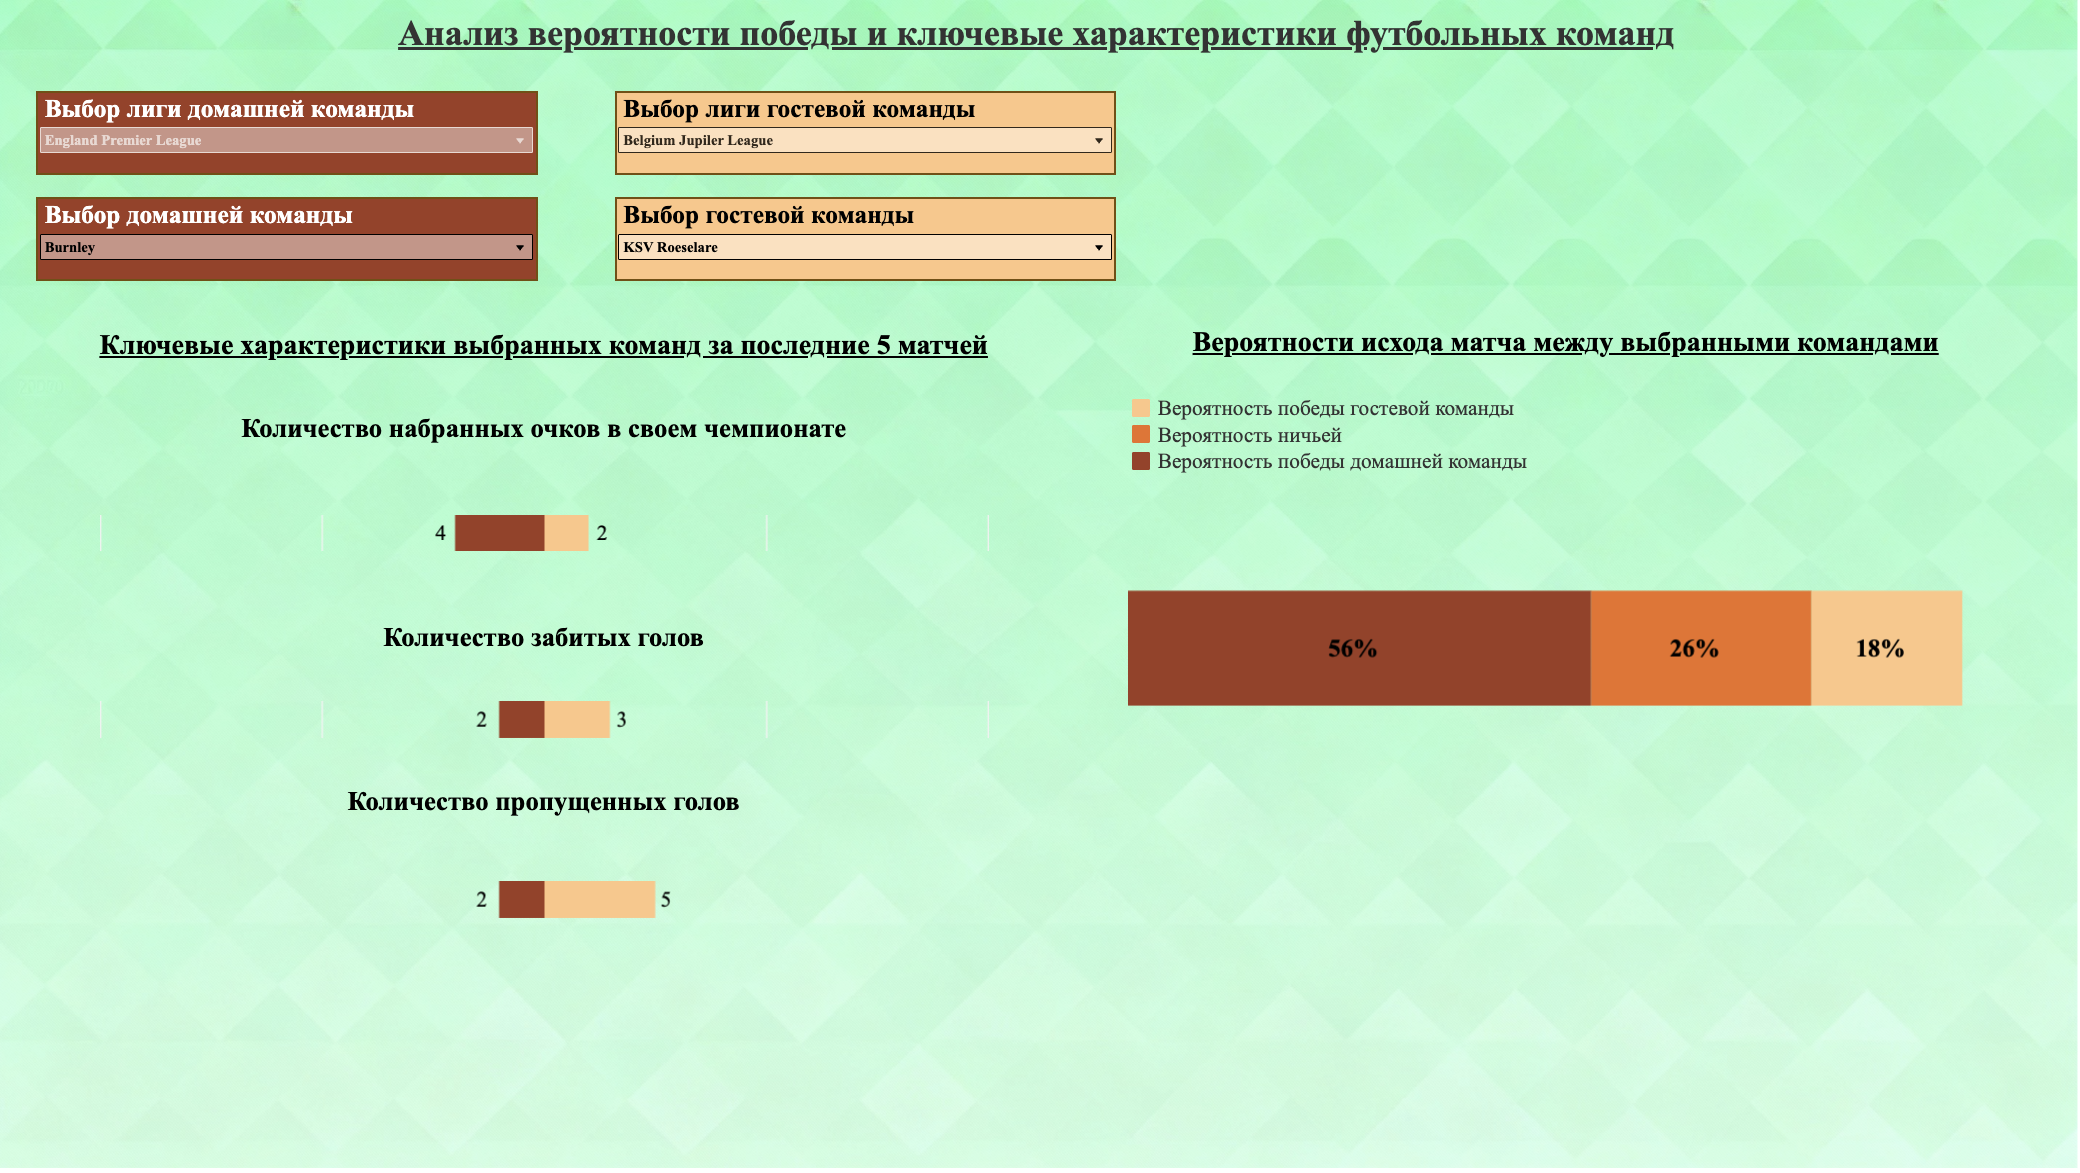

The page's visual inventory and layout, read from the dashboard file:
{"tool":"tableau","page":{"name":"Dashboard 1","canvas":[1600,900],"ordinal":0},"visuals":[{"type":"image","param":"Image/generated-image (2).png","box":[8,8,1584,884]},{"type":"title","box":[21,12,1556,48]},{"type":"parameter","param":"[Parameters].[home_team_league Parameter]","box":[49,80,376,63]},{"type":"parameter","param":"[Parameters].[away_team_league Parameter]","box":[483,80,376,63]},{"type":"filter","title":"Probability","param":"[federated.0jmgxuv1vn18zr1gdwkk21d7v8cl].[none:Calculation_756604794714611714:nk","box":[49,160,376,63]},{"type":"filter","title":"Probability","param":"[federated.0jmgxuv1vn18zr1gdwkk21d7v8cl].[none:Calculation_756604794713554944:nk","box":[483,160,376,63]},{"type":"text","box":[864,239,664,33]},{"type":"text","box":[27,241,805,50]},{"type":"worksheet","title":"Probability","mark":"Bar","cols":["Pivot Field Values"],"box":[864,272,664,456]},{"type":"text","box":[27,291,805,32]},{"type":"legend","title":"Probability","param":"[federated.0jmgxuv1vn18zr1gdwkk21d7v8cl].[none:Pivot Field Names:nk]","box":[868,308,368,78]},{"type":"worksheet","title":"pts","mark":"Bar","cols":["Calculation_756604794719100932","away_last_5_pts"],"box":[27,323,805,133.7]},{"type":"text","box":[27,456.7,805,32]},{"type":"worksheet","title":"scored","mark":"Bar","cols":["Calculation_756604794723115013","away_goals_scored_last_5"],"box":[27,488.7,805,99.7]},{"type":"text","box":[27,588.3,805,32]},{"type":"worksheet","title":"conceded","mark":"Bar","cols":["Calculation_756604794724757510","away_goals_conceded_last_5"],"box":[27,620.3,805,108.7]}]}

Visuals, with their boxes in screenshot pixels (x1, y1, x2, y2), scaled from the page's 1600x900 canvas onto the 2080x1173 screenshot:
image: (x1=10, y1=10, x2=2070, y2=1163)
title: (x1=27, y1=16, x2=2050, y2=78)
parameter: (x1=64, y1=104, x2=552, y2=186)
parameter: (x1=628, y1=104, x2=1117, y2=186)
"Probability" filter: (x1=64, y1=209, x2=552, y2=291)
"Probability" filter: (x1=628, y1=209, x2=1117, y2=291)
text: (x1=1123, y1=311, x2=1986, y2=355)
text: (x1=35, y1=314, x2=1082, y2=379)
"Probability" worksheet (Bar marks): (x1=1123, y1=355, x2=1986, y2=949)
text: (x1=35, y1=379, x2=1082, y2=421)
"Probability" legend: (x1=1128, y1=401, x2=1607, y2=503)
"pts" worksheet (Bar marks): (x1=35, y1=421, x2=1082, y2=595)
text: (x1=35, y1=595, x2=1082, y2=637)
"scored" worksheet (Bar marks): (x1=35, y1=637, x2=1082, y2=767)
text: (x1=35, y1=767, x2=1082, y2=808)
"conceded" worksheet (Bar marks): (x1=35, y1=808, x2=1082, y2=950)
